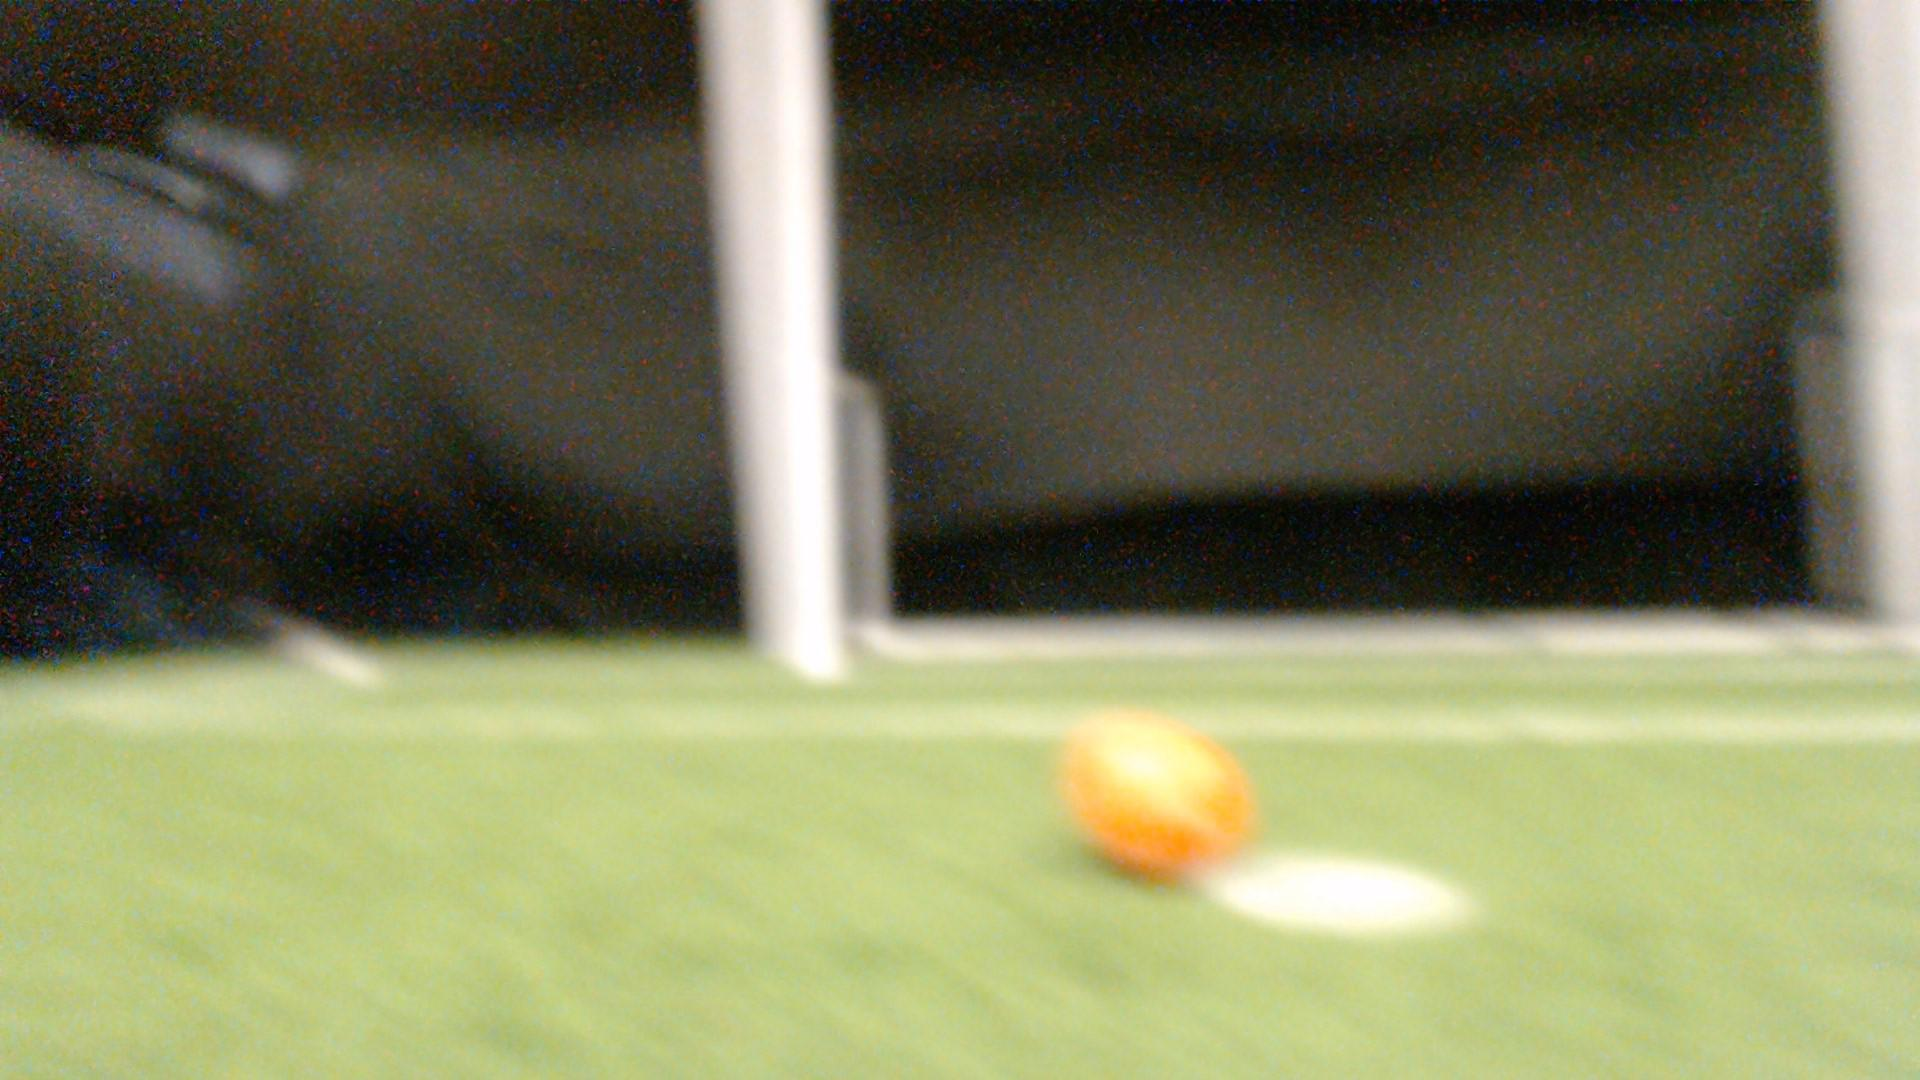bola: (1035, 702, 1276, 899)
